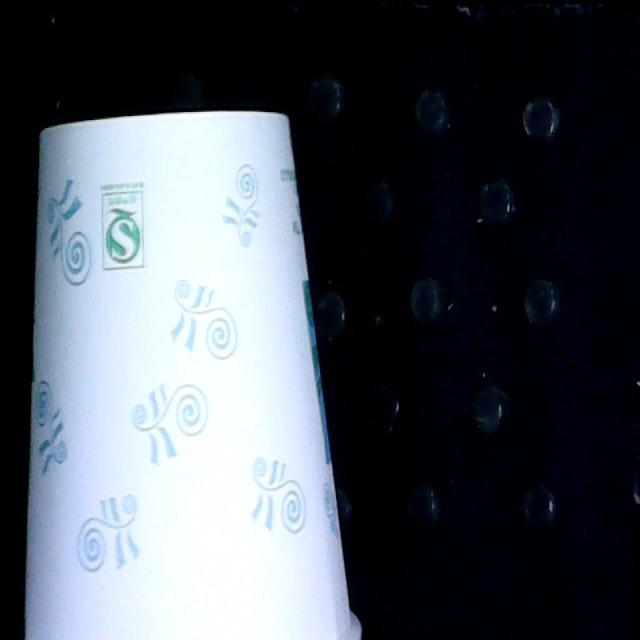-Recyclables - paper cup-: (26, 107, 361, 640)
